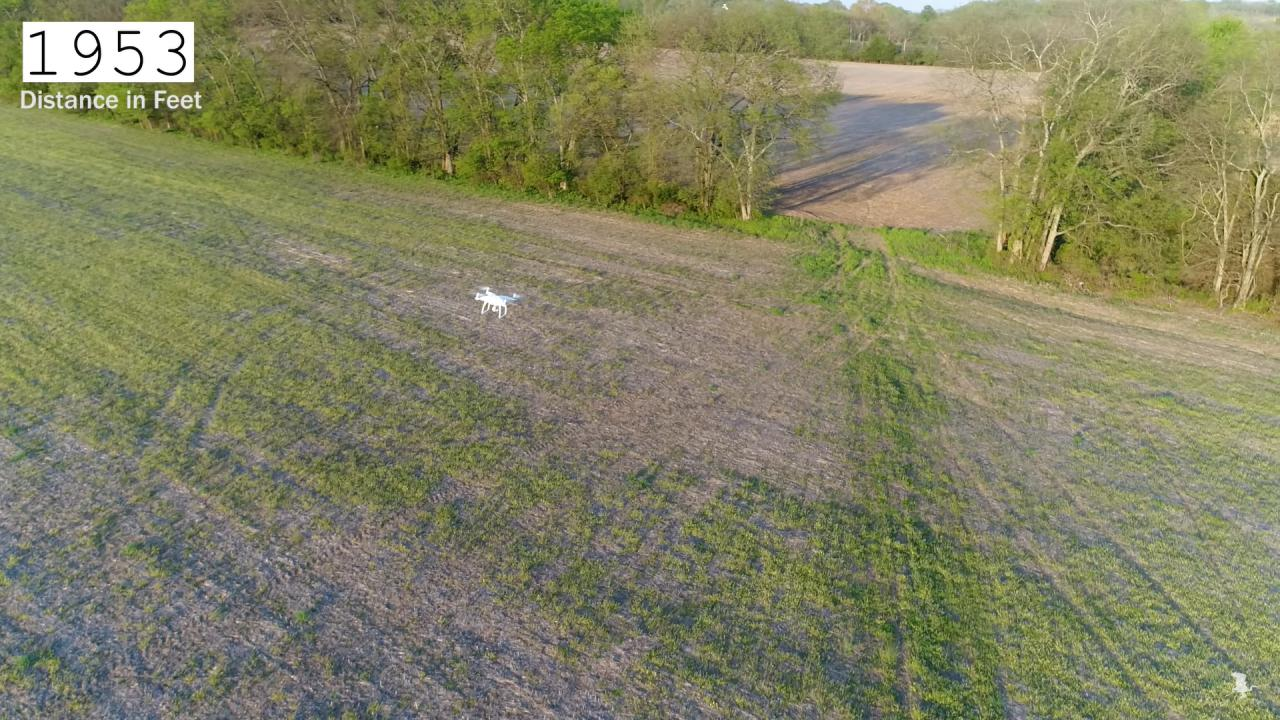Drone: (464, 277, 529, 327)
